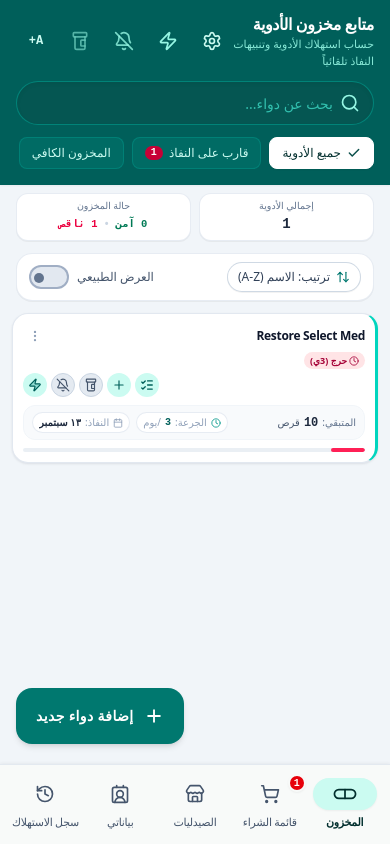
Scenario: MedicationCard multi-dose Restore → SelectDoseModal › Test 1 — Restore on multi-dose opens SelectDoseModal and does not restore immediately
Check: the heading "Restore Select Med" is shown, box [256, 327, 365, 344]
Click the button named "إدارة الجرعات" at (147, 385), box [135, 373, 159, 397]
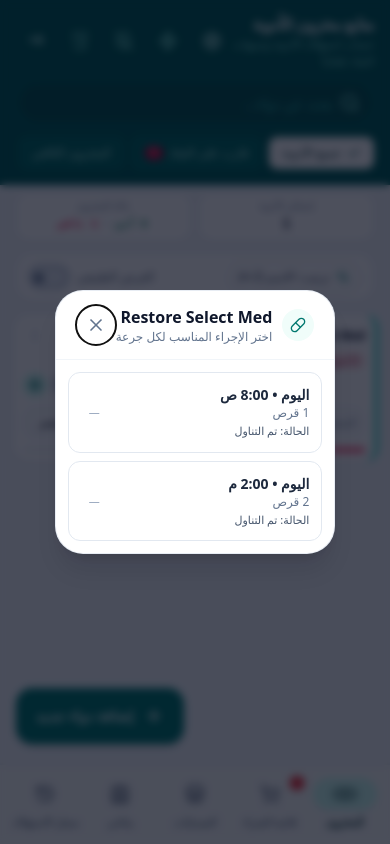
Check: the text "اختر الإجراء المناسب لكل جرعة" is shown, box [116, 329, 272, 345]
